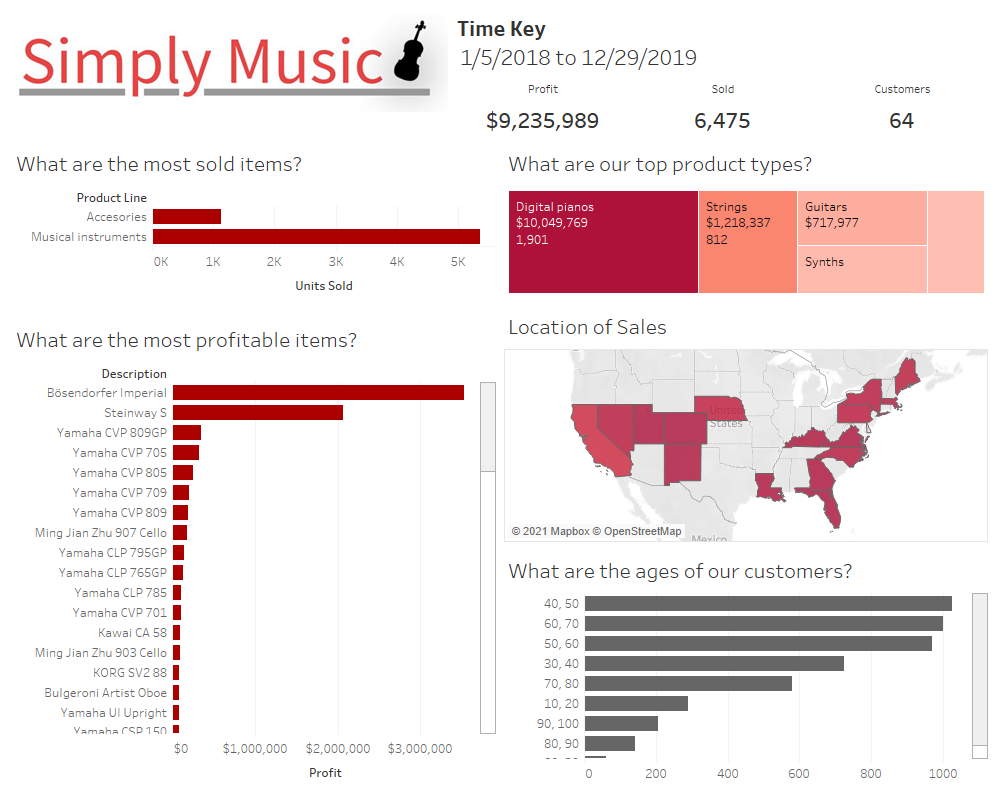

This screenshot's page, from the dashboard's own definition file:
{"tool":"tableau","page":{"name":"Detailed","canvas":[1000,800],"ordinal":1},"visuals":[{"type":"worksheet","box":[0,0,1000,800]},{"type":"worksheet","param":"horz","box":[8,8,984,784]},{"type":"worksheet","box":[8,8,984,784]},{"type":"worksheet","param":"horz","box":[8,8,445,131]},{"type":"worksheet","param":"G:/Shared drives/AT_Projects/DS4A/Tong/case_4.6/data/img/logo.jpg","box":[8,8,445,131]},{"type":"worksheet","title":"Customers","mark":"Automatic","param":"[federated.11rsqn40lh4diz12ezp0t1sp0y4g].[none:TIME_KEY:qk]","box":[453,8,539,63]},{"type":"worksheet","param":"horz","box":[453,71,539,68]},{"type":"worksheet","title":"Profit","mark":"Automatic","box":[453,71,180,68]},{"type":"worksheet","title":"Sold","mark":"Automatic","box":[633,71,180,68]},{"type":"worksheet","title":"Customers","mark":"Automatic","box":[813,71,179,68]},{"type":"worksheet","param":"horz","box":[8,139,984,653]},{"type":"worksheet","param":"horz","box":[8,139,984,653]},{"type":"worksheet","box":[8,139,984,653]},{"type":"worksheet","title":"Most Sold","mark":"Automatic","rows":["PRODUCT_LINE"],"cols":["UNITS_SOLD"],"box":[8,139,492,176]},{"type":"worksheet","title":"Top Products x Age","mark":"Automatic","box":[500,139,492,163.5]},{"type":"worksheet","title":"Location of Sales","mark":"Automatic","box":[500,302.5,492,243.5]},{"type":"worksheet","title":"Most Profitable","mark":"Automatic","rows":["DESCRIPTION"],"cols":["Calculation_2406329615657041921"],"box":[8,315,492,477]},{"type":"worksheet","title":"# of Customers x Age","mark":"Automatic","rows":["CUSTOMER_AGE_GROUP"],"cols":["simply_music.csv_9C46275120AA4F38B296E741721225DC"],"box":[500,546,492,246]}]}

Visuals, with their boxes in screenshot pixels (x1, y1, x2, y2), scaled from the page's 1000x800 canvas onto the 1000x800 screenshot:
worksheet: 0:0:999:799
worksheet: 8:8:992:792
worksheet: 8:8:992:792
worksheet: 8:8:453:139
worksheet: 8:8:453:139
"Customers" worksheet: 453:8:992:71
worksheet: 453:71:992:139
"Profit" worksheet: 453:71:633:139
"Sold" worksheet: 633:71:813:139
"Customers" worksheet: 813:71:992:139
worksheet: 8:139:992:792
worksheet: 8:139:992:792
worksheet: 8:139:992:792
"Most Sold" worksheet: 8:139:500:315
"Top Products x Age" worksheet: 500:139:992:302
"Location of Sales" worksheet: 500:302:992:546
"Most Profitable" worksheet: 8:315:500:792
"# of Customers x Age" worksheet: 500:546:992:792
